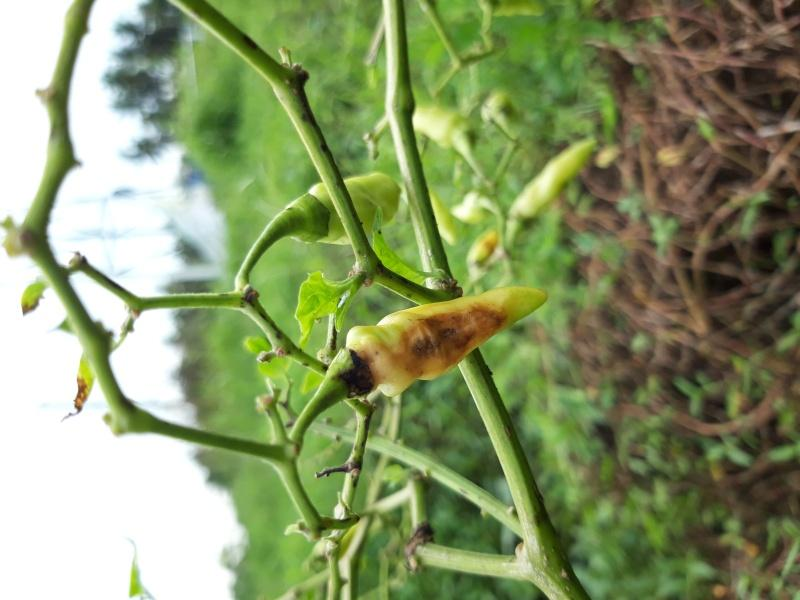antraknosa: (350, 287, 547, 396)
cabai_normal: (511, 136, 600, 218), (309, 172, 406, 240)
